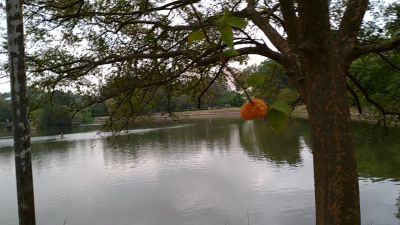eggs: (240, 98, 268, 122)
